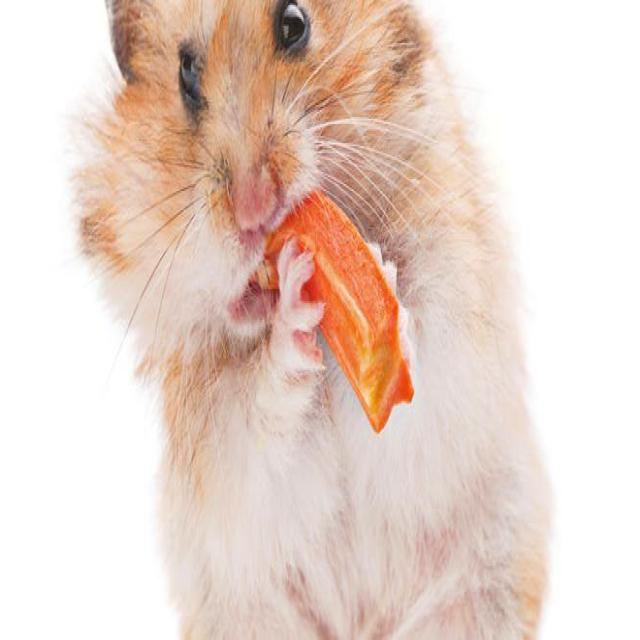hamster: (74, 0, 552, 638)
